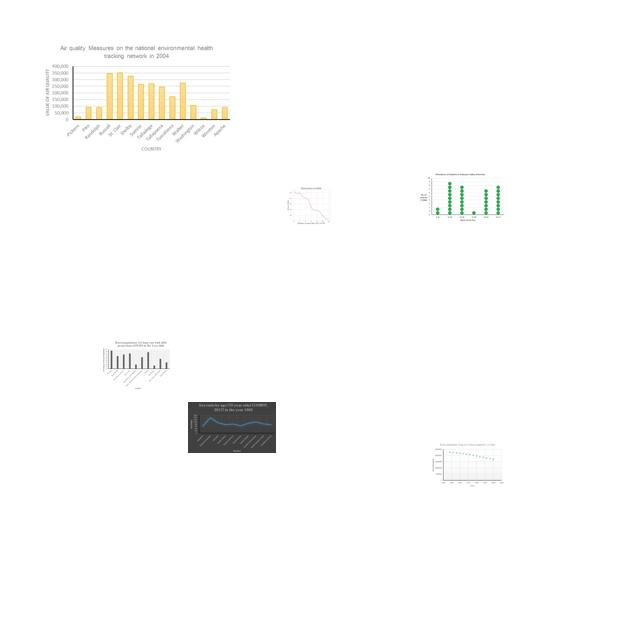Graph: (40, 42, 233, 155), (418, 172, 506, 223), (188, 402, 276, 453), (102, 341, 171, 390), (431, 443, 504, 487), (284, 185, 337, 225)
